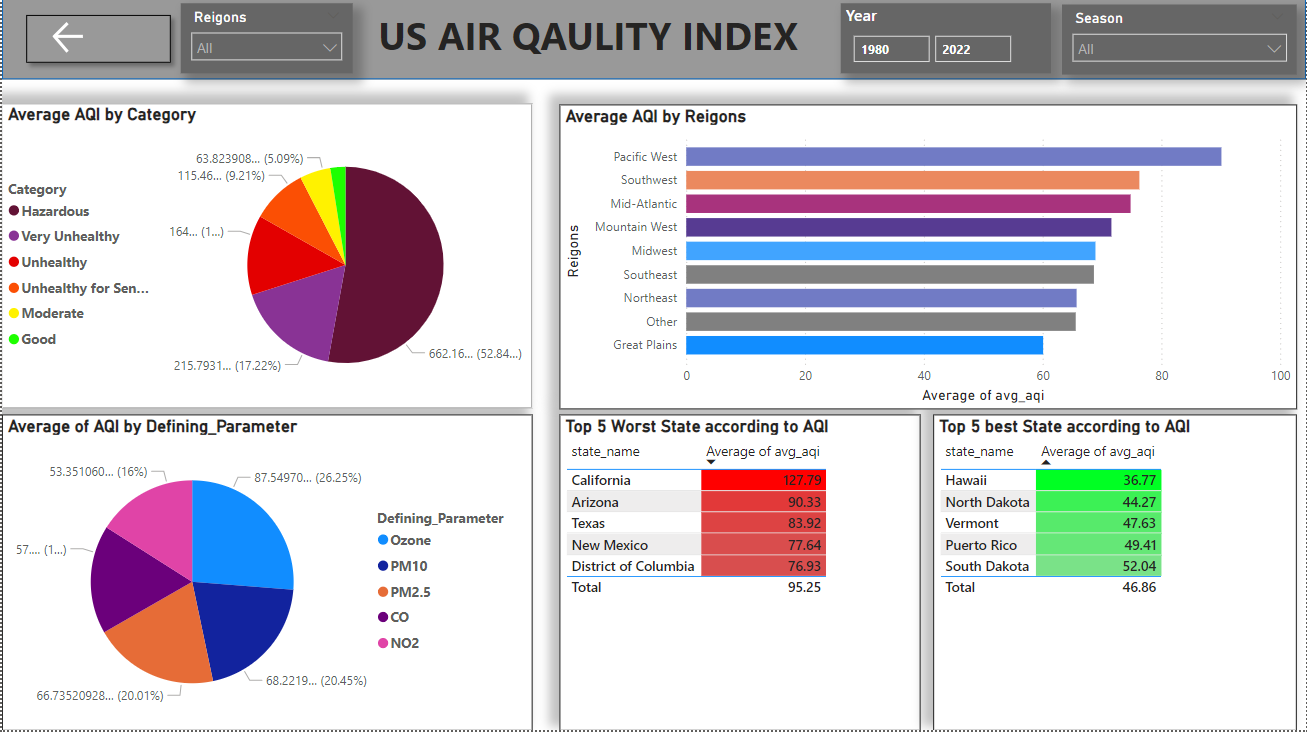

What the dashboard file says about the page in this screenshot:
{"tool":"powerbi","page":{"name":"Page 2","canvas":[1280,720],"ordinal":2},"visuals":[{"type":"pieChart","title":"Average of AQI by Defining_Parameter ","fields":{"Y":["Avg(US_AQI_aggregated.avg_aqi)"],"Category":["US_AQI_aggregated.Defining_Parameter"]},"box":[0,410.2,521.2,310.1],"z":0},{"type":"shape","box":[0,0,1280,80.8],"z":1000},{"type":"textbox","box":[343.8,6,509.1,68.8],"z":2000},{"type":"pieChart","title":"Average AQI by Category","fields":{"Category":["US_AQI_aggregated.Category"],"Y":["Avg(US_AQI_aggregated.avg_aqi)"]},"box":[0,104.5,520.9,299.1],"z":4000},{"type":"slicer","fields":{"Values":["US_AQI_aggregated.Reigons"]},"box":[175,6.2,168.8,68.8],"z":5000},{"type":"slicer","title":"Year","fields":{"Values":["US_AQI_aggregated.NEW_YEAR.Variation.Date Hierarchy.Year"]},"box":[823.8,6.2,206.2,68.8],"z":6000},{"type":"tableEx","title":"Top 5 Worst State according to AQI","fields":{"Values":["US_AQI_aggregated.state_name","Avg(US_AQI_aggregated.avg_aqi)"]},"box":[547.5,410.3,354,310.1],"z":7000},{"type":"tableEx","title":"Top 5 best State according to AQI","fields":{"Values":["US_AQI_aggregated.state_name","Avg(US_AQI_aggregated.avg_aqi)"]},"box":[913.9,410.3,356.8,310.1],"z":8000},{"type":"slicer","fields":{"Values":["US_AQI_aggregated.Season"]},"box":[1040.1,6.9,230.5,68.6],"z":9000},{"type":"shape","box":[15,8.8,160,65],"z":10000},{"type":"actionButton","box":[45,20,100,40],"z":11000},{"type":"barChart","title":"Average AQI by Reigons","fields":{"Category":["US_AQI_aggregated.Reigons"],"Y":["Avg(US_AQI_aggregated.avg_aqi)"]},"box":[547.7,105,723.9,299.2],"z":11001}]}

Visuals, with their boxes in screenshot pixels (x1, y1, x2, y2), scaled from the page's 1280x720 canvas onto the 1307x732 screenshot:
"Average of AQI by Defining_Parameter " pieChart: box=[0, 417, 532, 731]
shape: box=[0, 0, 1306, 82]
textbox: box=[351, 6, 871, 76]
"Average AQI by Category" pieChart: box=[0, 106, 532, 410]
slicer - US_AQI_aggregated.Reigons: box=[179, 6, 351, 76]
"Year" slicer: box=[841, 6, 1052, 76]
"Top 5 Worst State according to AQI" tableEx: box=[559, 417, 921, 731]
"Top 5 best State according to AQI" tableEx: box=[933, 417, 1298, 731]
slicer - US_AQI_aggregated.Season: box=[1062, 7, 1297, 77]
shape: box=[15, 9, 179, 75]
actionButton: box=[46, 20, 148, 61]
"Average AQI by Reigons" barChart: box=[559, 107, 1298, 411]
